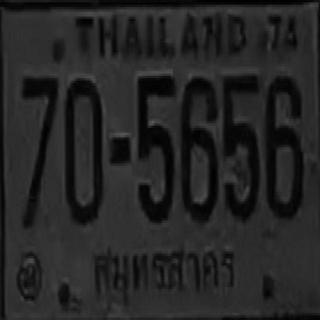N00: (64, 76, 102, 223)
N05: (136, 74, 174, 220), (222, 72, 258, 219)
N06: (264, 74, 302, 218), (180, 75, 216, 222)
N07: (20, 75, 57, 226), (20, 75, 57, 177)
P58: (82, 232, 241, 301)
